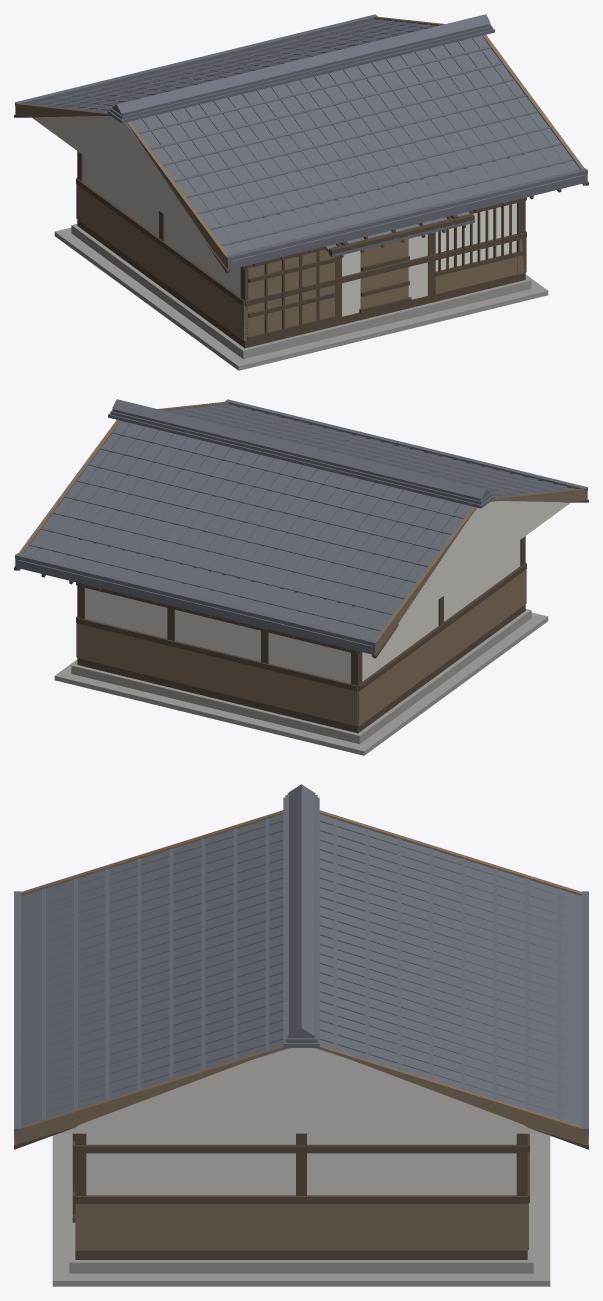
File: machiya_e_p.glb
The picture shows the model from 3 angles, top to bottom: view 1: azimuth 30°, elevation 25°; view 2: azimuth 150°, elevation 25°; view 3: azimuth 270°, elevation 25°; orthographic projection. The views are drawn at different scales.
Parts seen in each view (by area): view 1: machiya_e_p; view 2: machiya_e_p; view 3: machiya_e_p.
Part boxes in pixels (box(x1,y1,x2,y2)): machiya_e_p: box(14, 14, 588, 370); machiya_e_p: box(14, 399, 588, 755); machiya_e_p: box(14, 784, 588, 1286).
Size of the model in its own units: 7.98 by 4.22 by 7.88.
